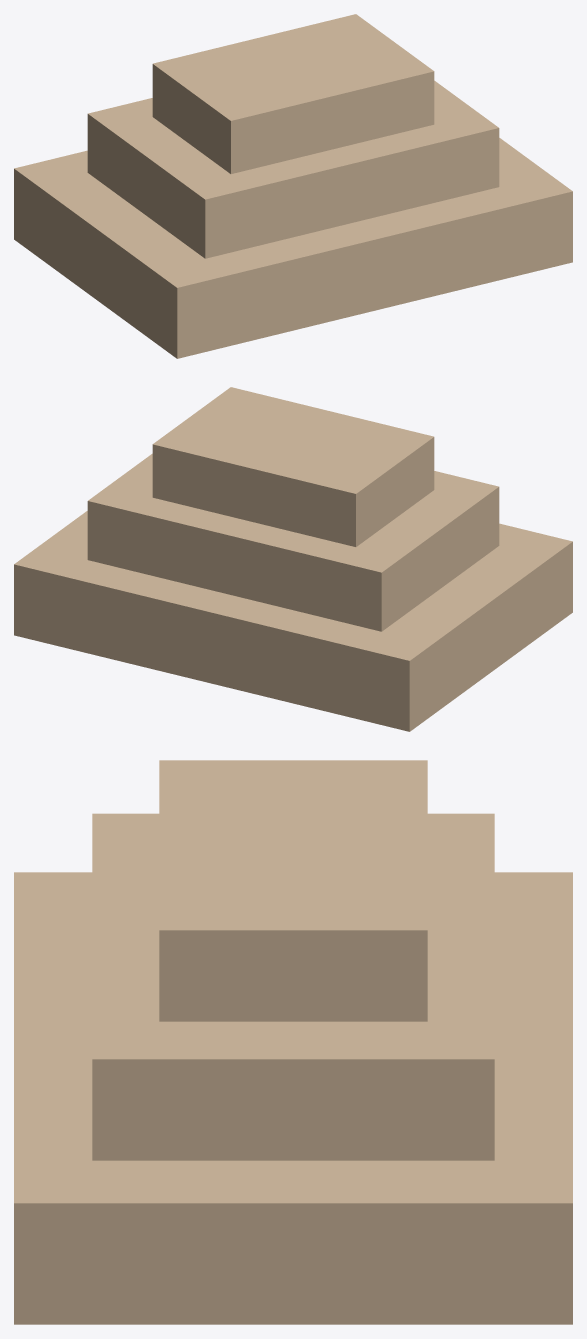
The model's file is ziggurat_s3.glb.
The picture shows the model from 3 angles, top to bottom: view 1: azimuth 30°, elevation 25°; view 2: azimuth 150°, elevation 25°; view 3: azimuth 270°, elevation 25°; orthographic projection. The views are drawn at different scales.
Visible parts, largest first — view 1: Cube, Cube.001, Cube.002; view 2: Cube, Cube.001, Cube.002; view 3: Cube, Cube.001, Cube.002.
Part boxes in pixels (left/top/right/bottom): Cube: left=14, top=138, right=572, bottom=358; Cube.001: left=87, top=80, right=499, bottom=258; Cube.002: left=152, top=14, right=434, bottom=173; Cube: left=14, top=511, right=572, bottom=731; Cube.001: left=87, top=453, right=499, bottom=631; Cube.002: left=152, top=387, right=434, bottom=546; Cube: left=14, top=872, right=572, bottom=1324; Cube.001: left=92, top=813, right=494, bottom=1160; Cube.002: left=159, top=760, right=427, bottom=1021.
Bounding box in the file's own units: 7 × 3.1 × 5.
